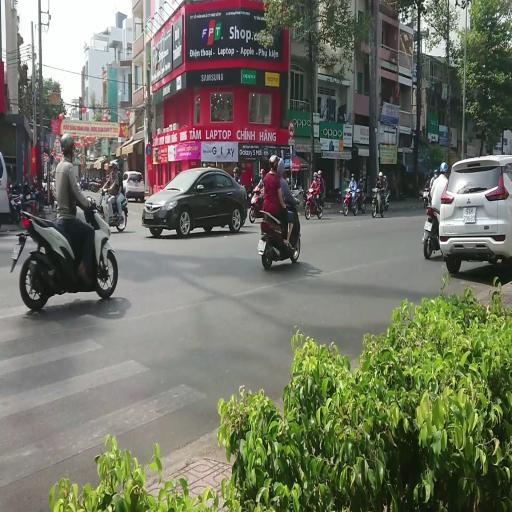bikes: (10, 195, 118, 310), (257, 191, 301, 269), (422, 162, 448, 259), (90, 187, 128, 232), (8, 180, 46, 224), (422, 195, 441, 259), (8, 180, 24, 222), (249, 184, 264, 222), (304, 188, 322, 219), (419, 171, 433, 208), (342, 186, 358, 216), (372, 187, 386, 217), (353, 187, 366, 214), (291, 185, 304, 209), (244, 177, 255, 203), (418, 186, 430, 208), (89, 176, 105, 192), (382, 189, 390, 210), (319, 186, 325, 207), (80, 176, 87, 190)
helmet: (60, 133, 75, 151), (269, 154, 279, 170), (277, 158, 285, 176), (108, 161, 118, 170), (440, 162, 448, 172), (108, 161, 115, 168), (113, 162, 119, 170), (30, 184, 36, 192), (260, 168, 264, 176), (434, 167, 438, 175), (81, 176, 85, 183), (233, 167, 238, 172), (313, 172, 317, 178), (378, 171, 382, 177), (318, 170, 322, 176), (250, 177, 254, 183), (351, 173, 354, 179), (359, 178, 363, 182), (347, 188, 350, 193), (384, 175, 386, 181), (360, 174, 362, 180)
